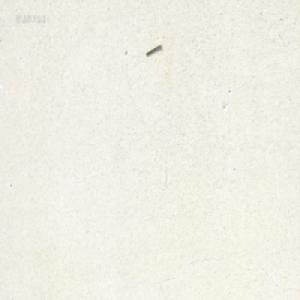Bolt: (145, 43, 161, 55)
